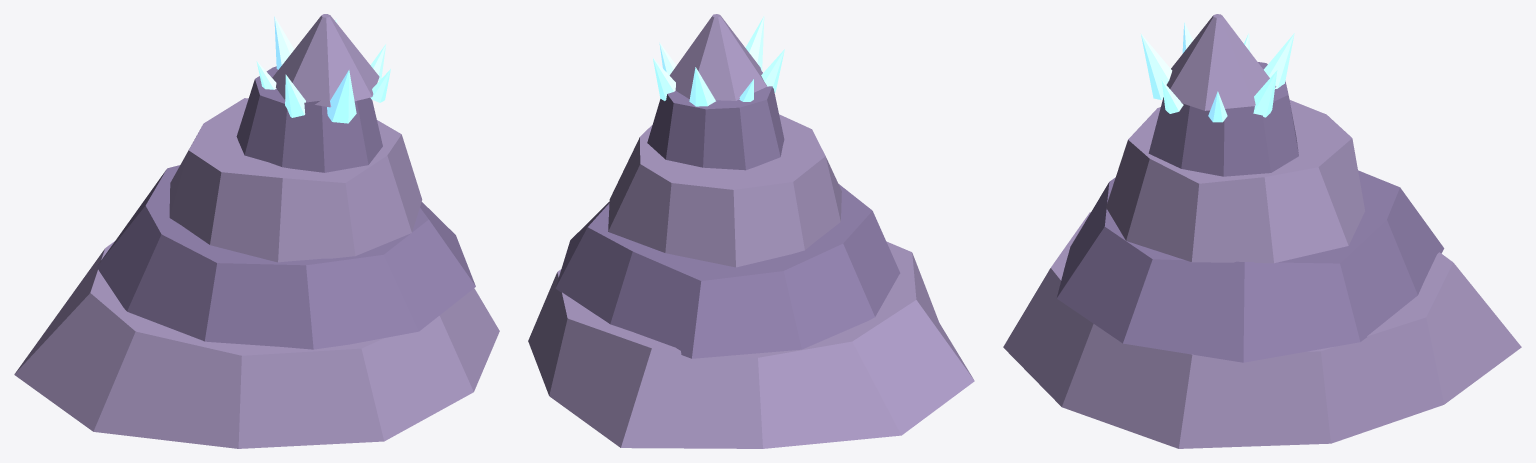
Rendered from mountain.glb.
3 views of the same model, side by side, from view 1: azimuth 30°, elevation 25°; view 2: azimuth 150°, elevation 25°; view 3: azimuth 270°, elevation 25° (orthographic). The views are drawn at different scales.
Visible parts, largest first — view 1: Mountain.001; view 2: Mountain.001; view 3: Mountain.001.
Boxes of the visible parts, x1,y1,x2,y2 form: Mountain.001: [14, 14, 499, 448]; Mountain.001: [528, 14, 974, 448]; Mountain.001: [1003, 14, 1521, 448].
Bounding box in the file's own units: 50.44 × 40 × 53.13.
